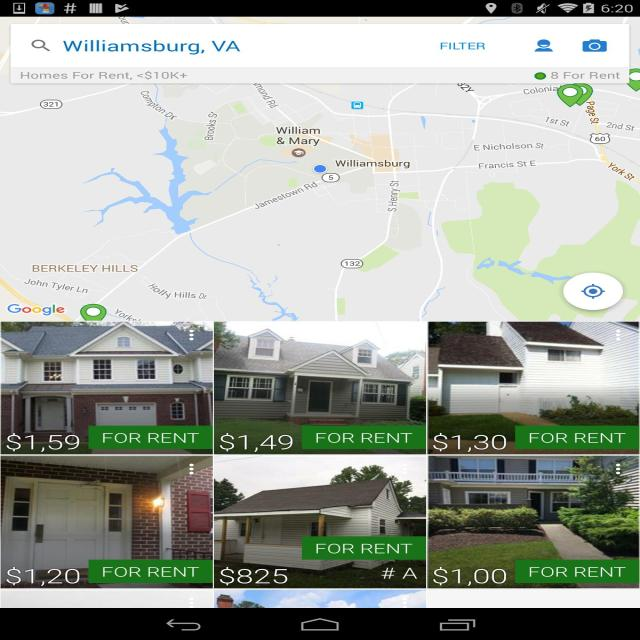button: (562, 274, 626, 314), (510, 26, 564, 65), (434, 30, 494, 61), (570, 27, 618, 61), (22, 33, 56, 57)
field: (13, 27, 628, 66)
image: (2, 16, 640, 322), (1, 322, 215, 456), (428, 454, 640, 589), (0, 455, 213, 589), (425, 323, 640, 453), (216, 322, 425, 455), (215, 456, 427, 587)
label: (439, 39, 487, 54)
text: (61, 32, 246, 57), (432, 563, 511, 588), (218, 428, 296, 453), (427, 432, 511, 454), (98, 428, 200, 446), (525, 564, 631, 581), (311, 540, 416, 557), (98, 564, 206, 580), (310, 429, 414, 445), (3, 565, 82, 586), (523, 430, 633, 445), (3, 432, 83, 452), (216, 564, 295, 584)
